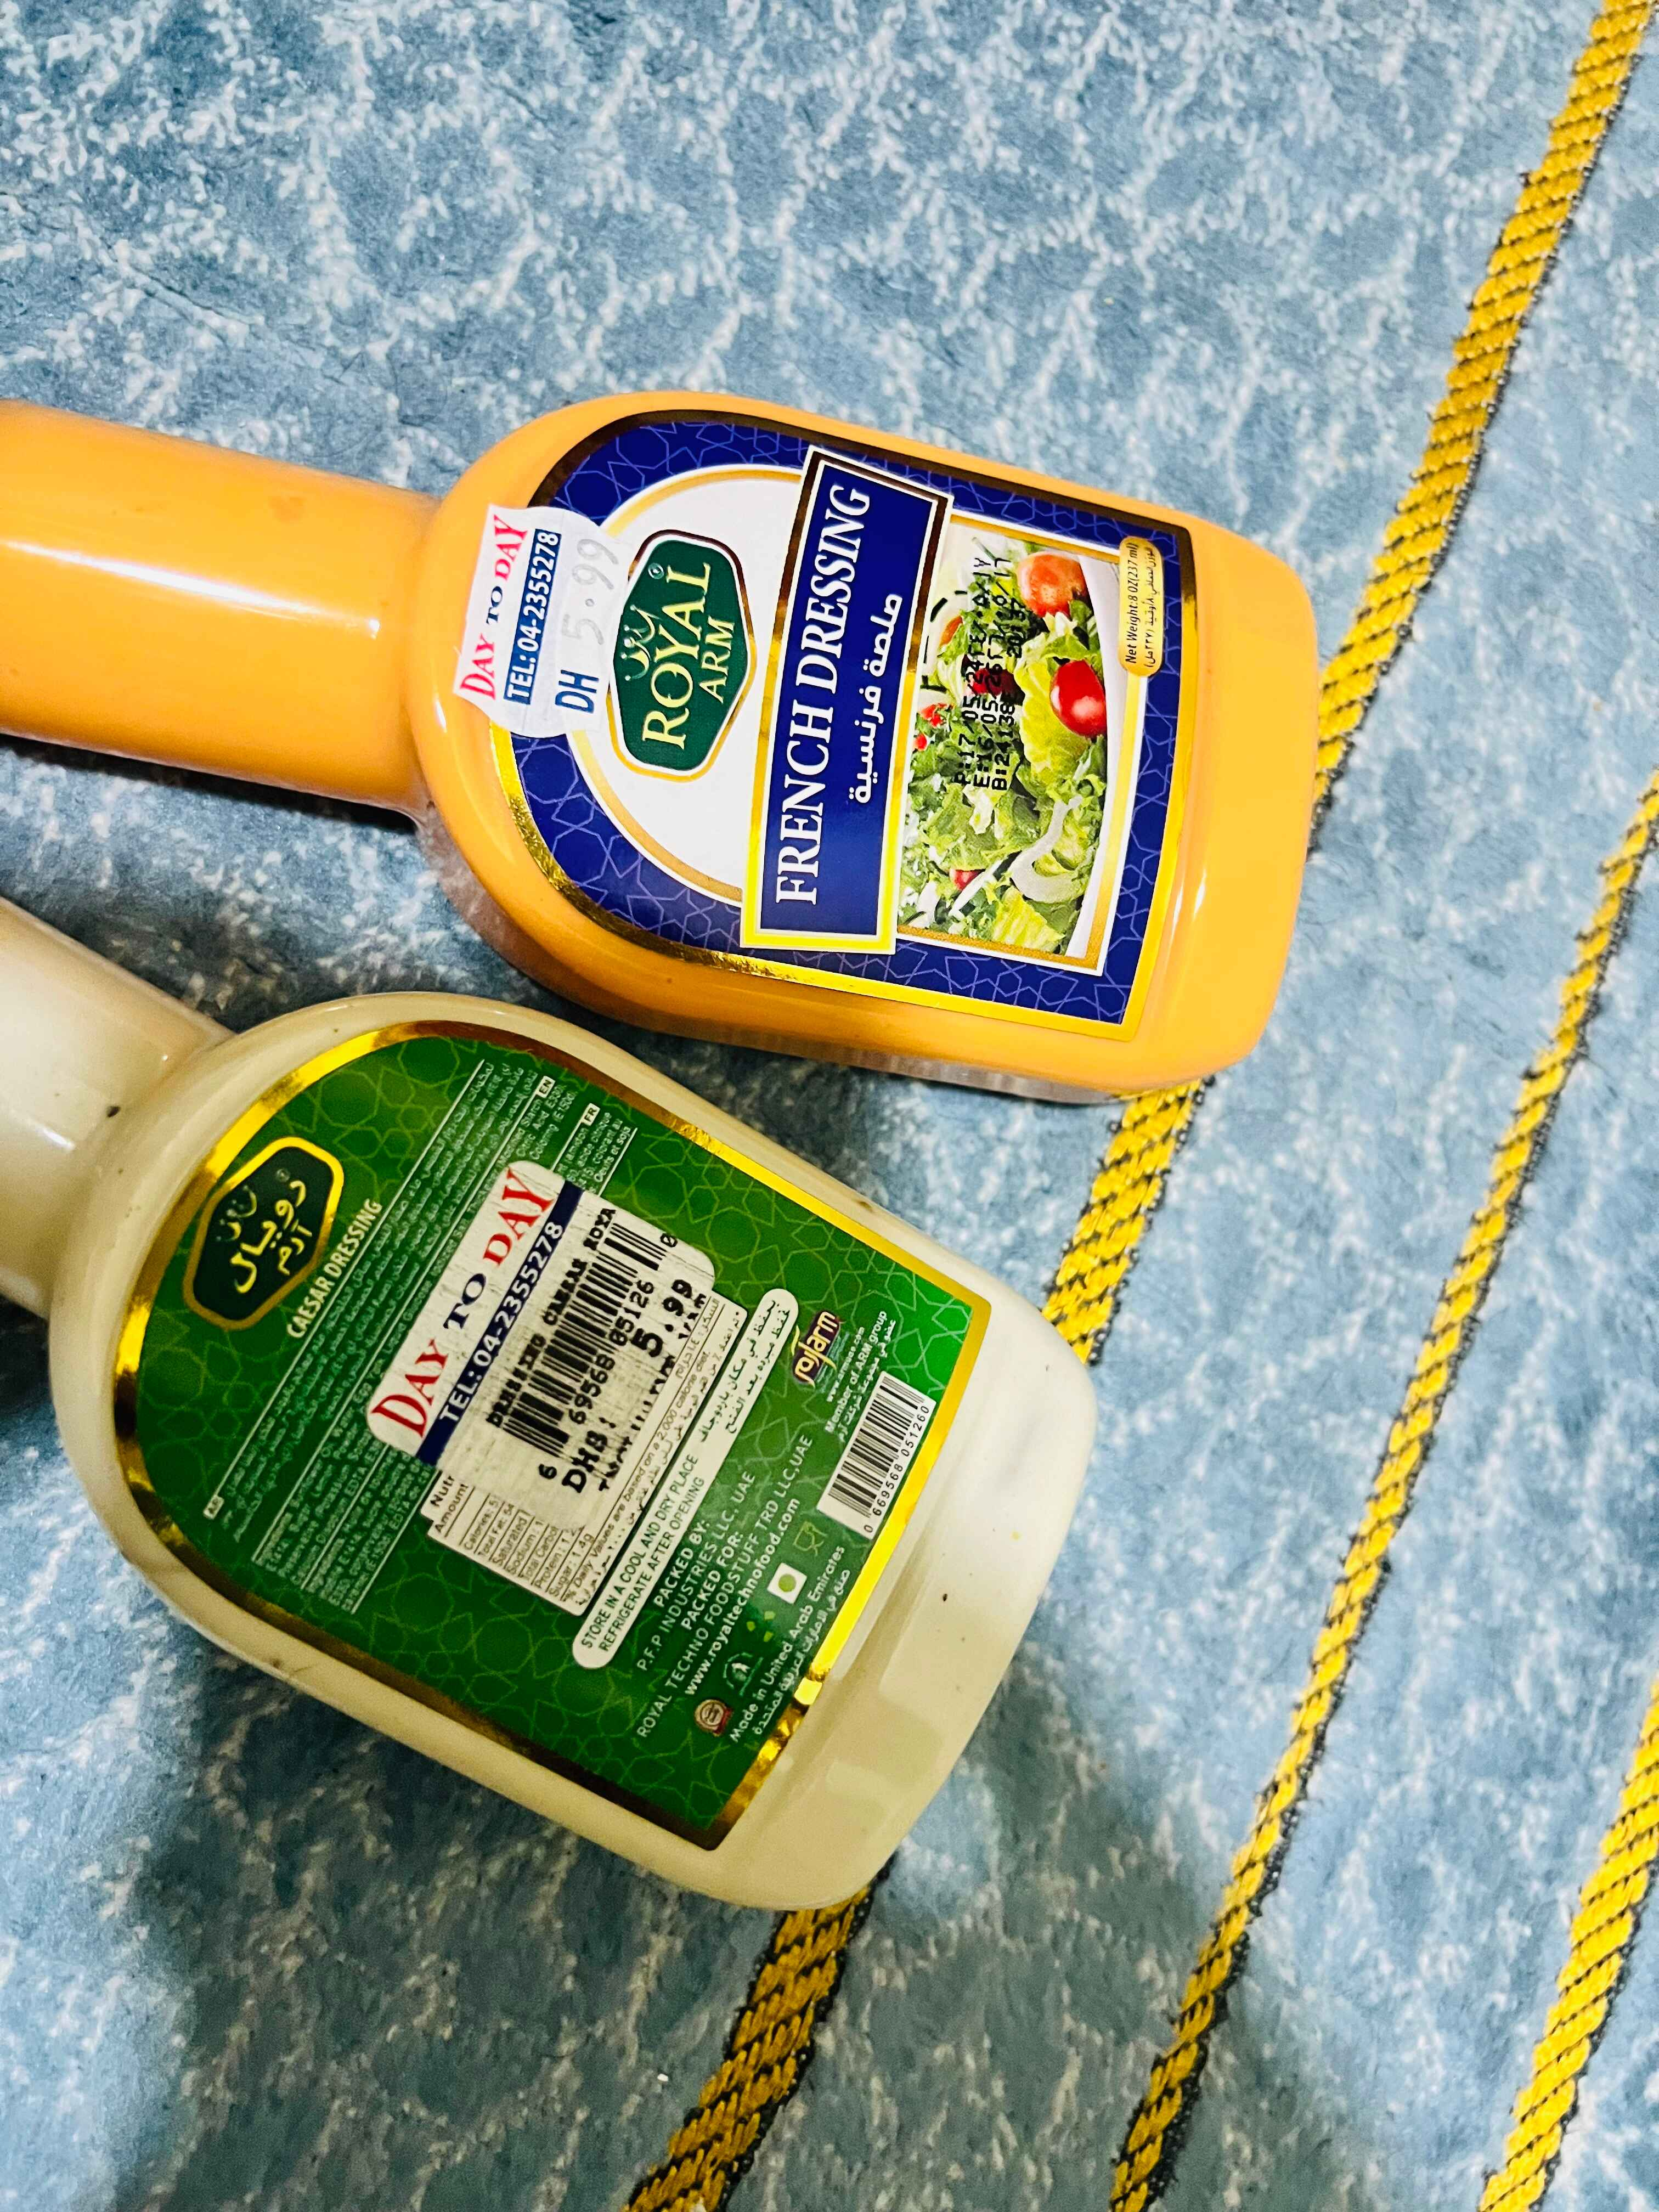PriceTagBig: (359, 1170, 728, 1521)
PriceTagSmall: (448, 500, 626, 745)
